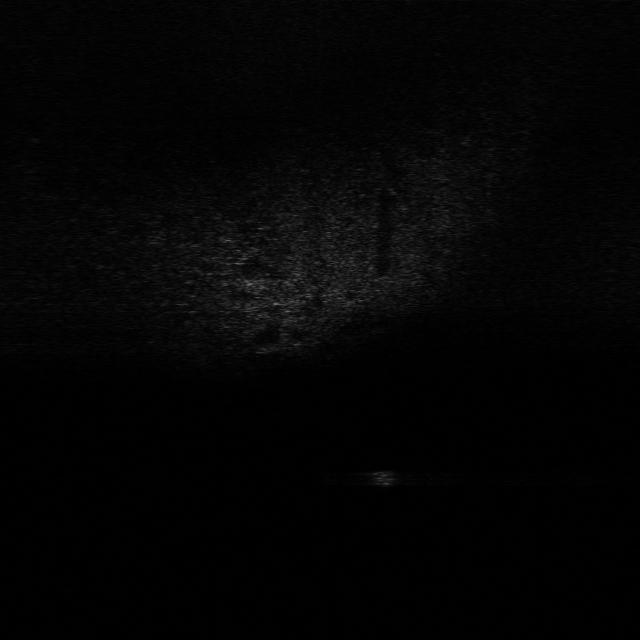cylinder: (371, 472, 398, 492)
